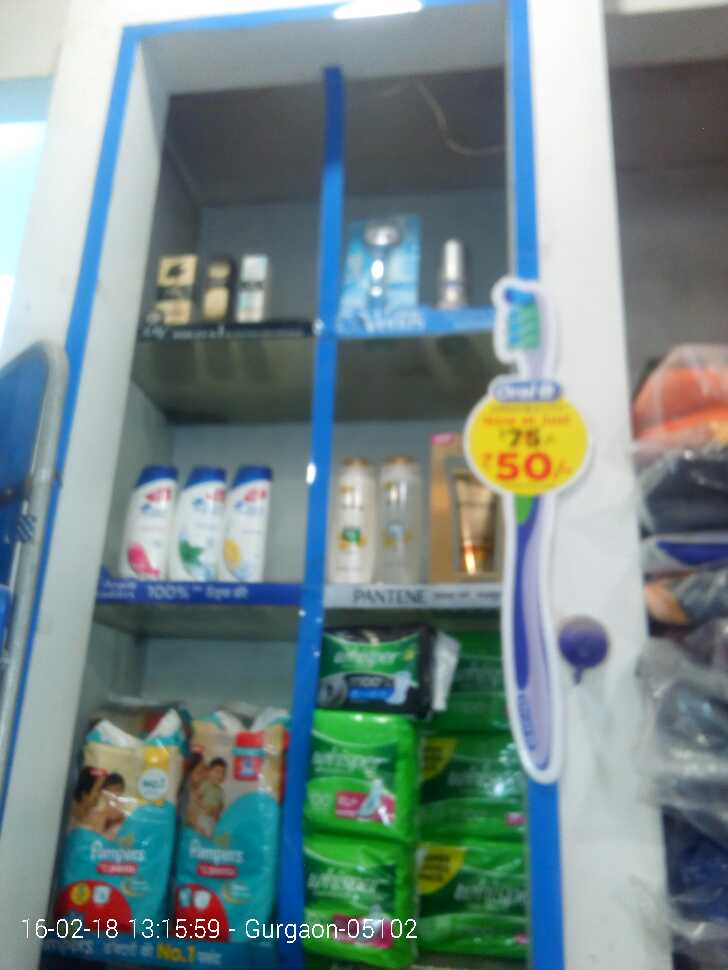venus: (344, 208, 418, 315)
